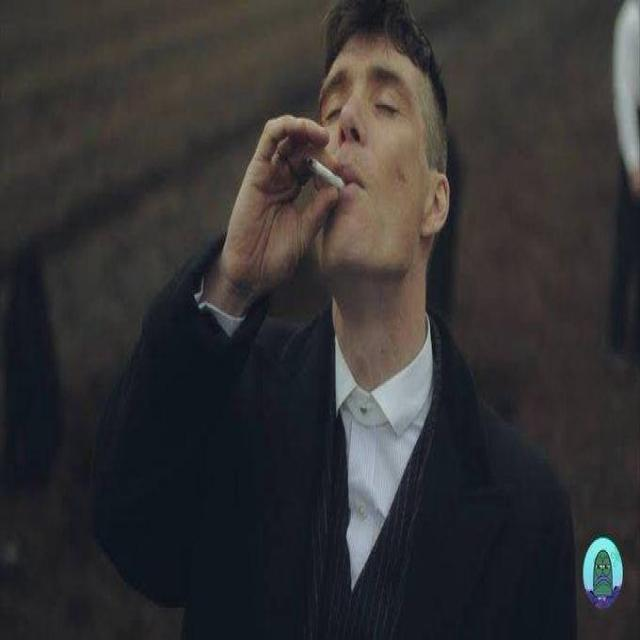rokok: (304, 146, 348, 202)
